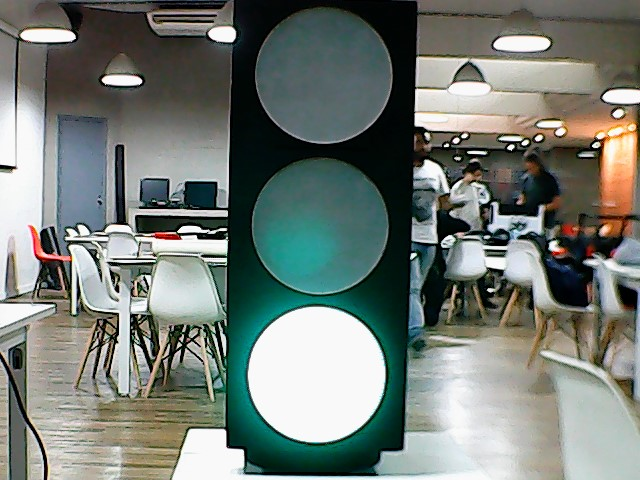verde: (213, 1, 422, 455)
